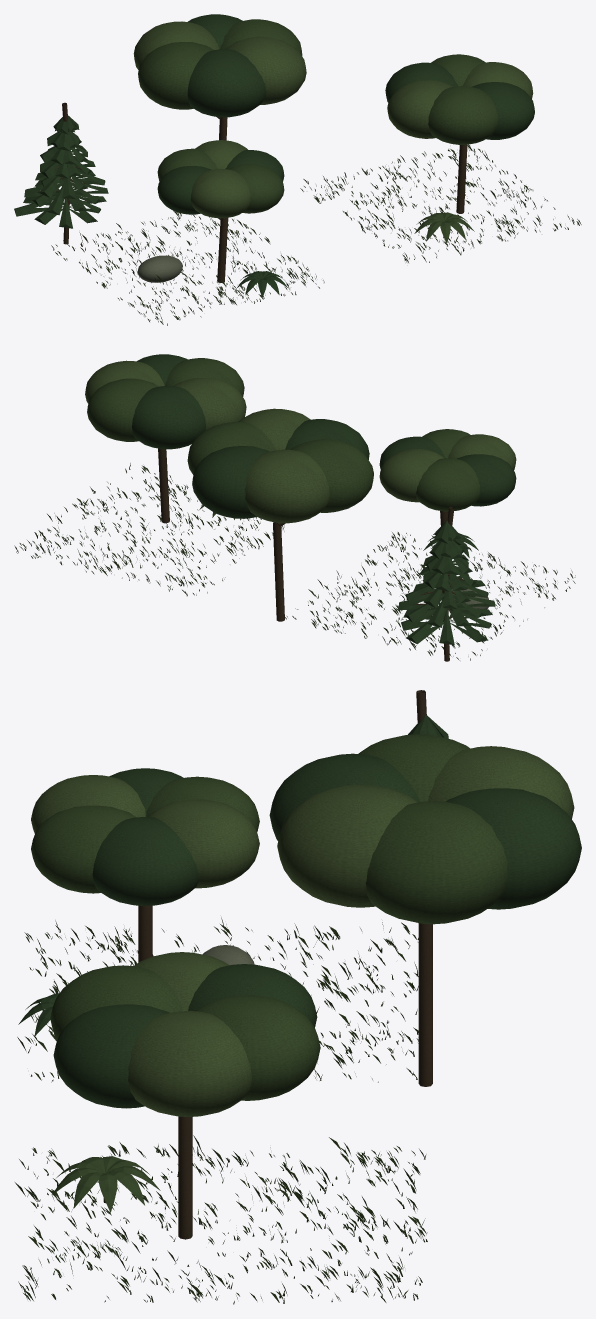
Rendered from denseForest-v1.glb.
The picture shows the model from 3 angles, top to bottom: view 1: azimuth 30°, elevation 25°; view 2: azimuth 150°, elevation 25°; view 3: azimuth 270°, elevation 25°; orthographic projection. The views are drawn at different scales.
Visible parts, largest first — view 1: Grass blades, Pine canopy, Leaf crown.012, Leaf crown.014, Leaf crown.013, Leaf crown.007, Leaf crown.008, Leaf crown.006, Leaf crown.002, Leaf crown.001, Leaf crown, Verge boulder (+4 smaller); view 2: Leaf crown.014, Pine canopy, Grass blades, Leaf crown.013, Leaf crown.012, Leaf crown.006, Leaf crown.007, Leaf crown.008, Leaf crown.001, Leaf crown.002, Leaf crown, Forked trunk.002 (+1 smaller); view 3: Leaf crown.013, Leaf crown.014, Leaf crown.012, Leaf crown.008, Grass blades, Leaf crown.007, Leaf crown.006, Leaf crown.002, Leaf crown, Leaf crown.001, Broad fronds.001, Forked trunk.002 (+2 smaller).
Boxes of the visible parts, x1,y1,x2,y2 form: Grass blades: (51, 144, 581, 325); Pine canopy: (14, 115, 108, 228); Leaf crown.012: (187, 14, 266, 117); Leaf crown.014: (133, 21, 306, 104); Leaf crown.013: (138, 19, 302, 109); Leaf crown.007: (428, 54, 498, 144); Leaf crown.008: (387, 62, 533, 138); Leaf crown.006: (385, 62, 534, 139); Leaf crown.002: (191, 140, 250, 218); Leaf crown.001: (157, 148, 284, 213); Leaf crown: (157, 150, 284, 214); Verge boulder: (137, 255, 182, 282); Leaf crown.014: (238, 408, 329, 523); Pine canopy: (398, 520, 495, 644); Grass blades: (14, 463, 575, 660); Leaf crown.013: (187, 422, 373, 512); Leaf crown.012: (192, 419, 369, 518); Leaf crown.006: (132, 354, 205, 449); Leaf crown.007: (87, 358, 244, 441); Leaf crown.008: (85, 360, 246, 430); Leaf crown.001: (416, 429, 480, 511); Leaf crown.002: (379, 434, 516, 502); Leaf crown: (379, 436, 516, 506); Forked trunk.002: (273, 522, 285, 621); Leaf crown.013: (358, 734, 507, 924); Leaf crown.014: (277, 746, 574, 907); Leaf crown.012: (269, 753, 581, 909); Leaf crown.008: (128, 952, 251, 1116); Grass blades: (15, 917, 427, 1304); Leaf crown.007: (50, 965, 320, 1100); Leaf crown.006: (53, 964, 317, 1108); Leaf crown.002: (31, 775, 259, 888); Leaf crown: (92, 768, 198, 905); Leaf crown.001: (31, 776, 259, 893); Broad fronds.001: (52, 1156, 160, 1212); Forked trunk.002: (418, 923, 432, 1086).
Size of what is drawn, in the model's own units: 23.61 by 8.76 by 14.18.
6 materials, 6 textured.
